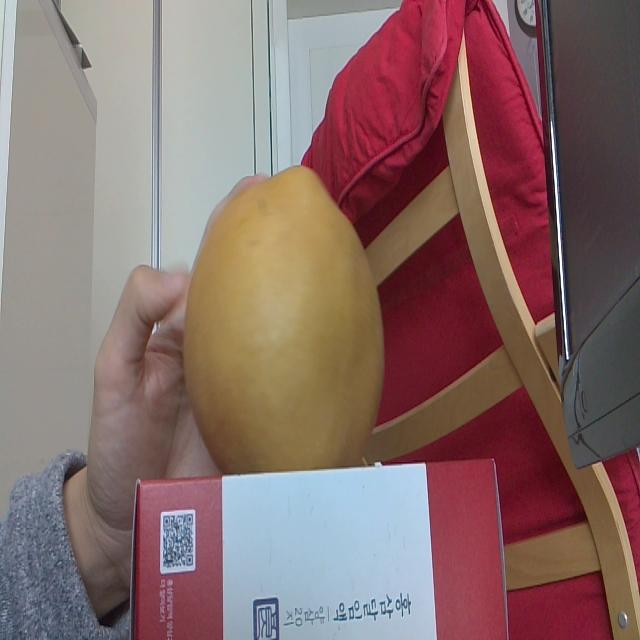pear: (184, 159, 389, 468)
